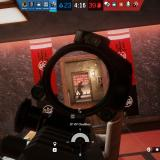Character: (77, 81, 85, 99)
Friend_label: (77, 76, 84, 81)
Head: (80, 81, 83, 84)
